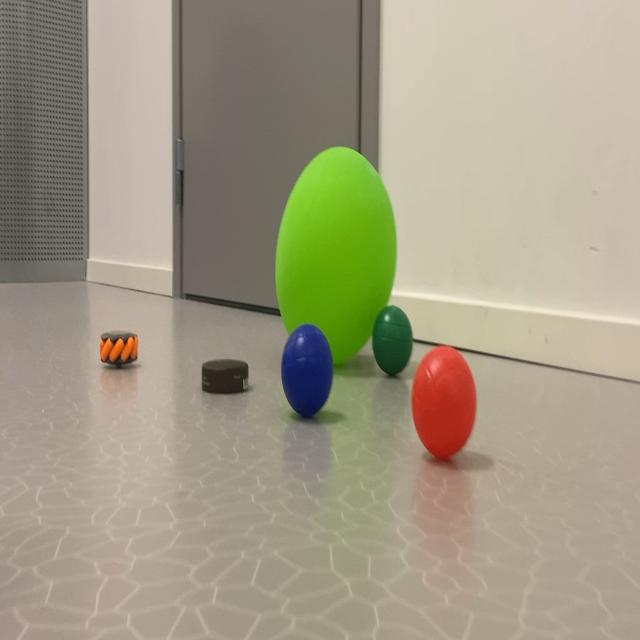7: (405, 344, 484, 479)
green ball: (272, 319, 342, 421)
red ball: (361, 302, 416, 381)
